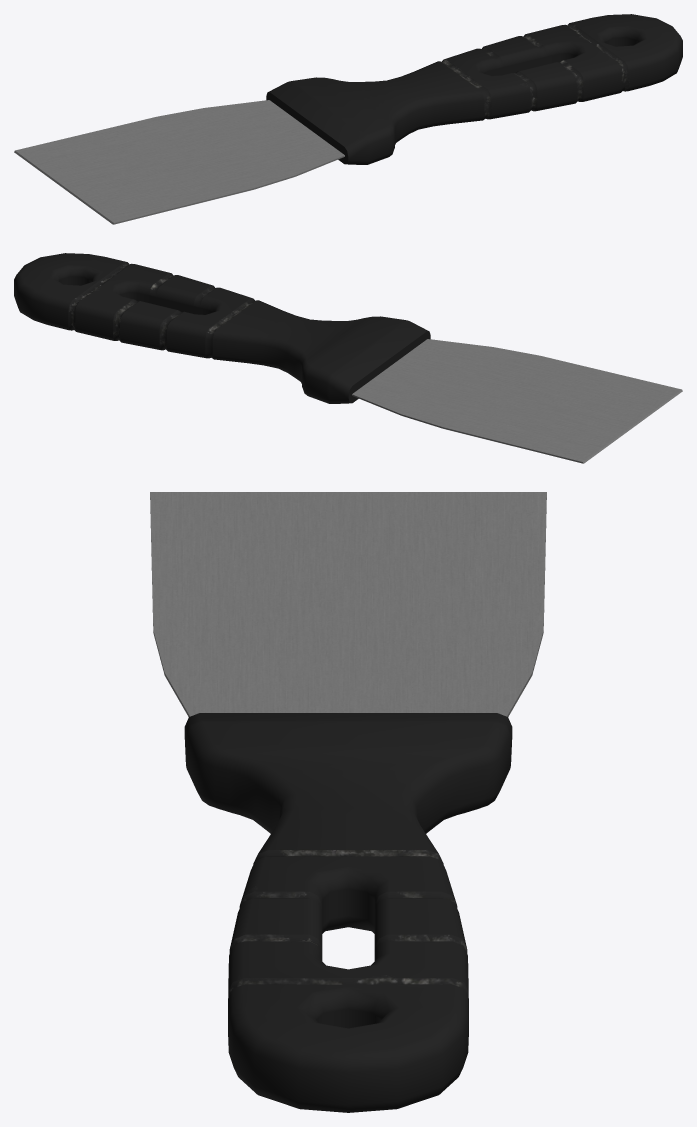
The picture shows the model from 3 angles, top to bottom: view 1: azimuth 30°, elevation 25°; view 2: azimuth 150°, elevation 25°; view 3: azimuth 270°, elevation 25°; orthographic projection. The views are drawn at different scales.
Visible parts, largest first — view 1: spatula_handle, spatula_metal; view 2: spatula_handle, spatula_metal; view 3: spatula_handle, spatula_metal.
Boxes of the visible parts, x1,y1,x2,y2 form: spatula_handle: (266, 14, 682, 164); spatula_metal: (14, 100, 344, 224); spatula_handle: (14, 253, 430, 403); spatula_metal: (352, 339, 682, 463); spatula_handle: (184, 713, 512, 1112); spatula_metal: (150, 492, 546, 716).
Bounding box in the file's own units: 0.2133 × 0.06 × 0.0101.
1 material, 1 textured.
